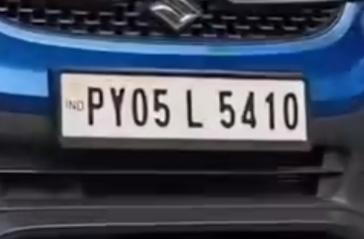0: (281, 88, 302, 132), (130, 86, 149, 130)
1: (262, 90, 279, 134)
4: (239, 90, 261, 130)
5: (213, 86, 240, 133), (149, 87, 173, 132)
L: (183, 84, 208, 133)
P: (84, 84, 106, 129)
Y: (106, 83, 128, 129)
